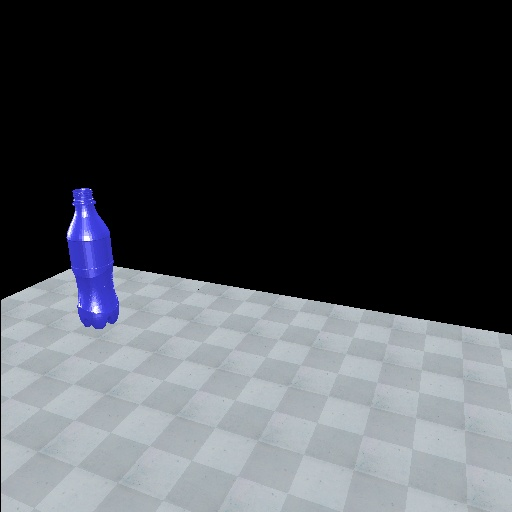bottle: (62, 184, 125, 333)
